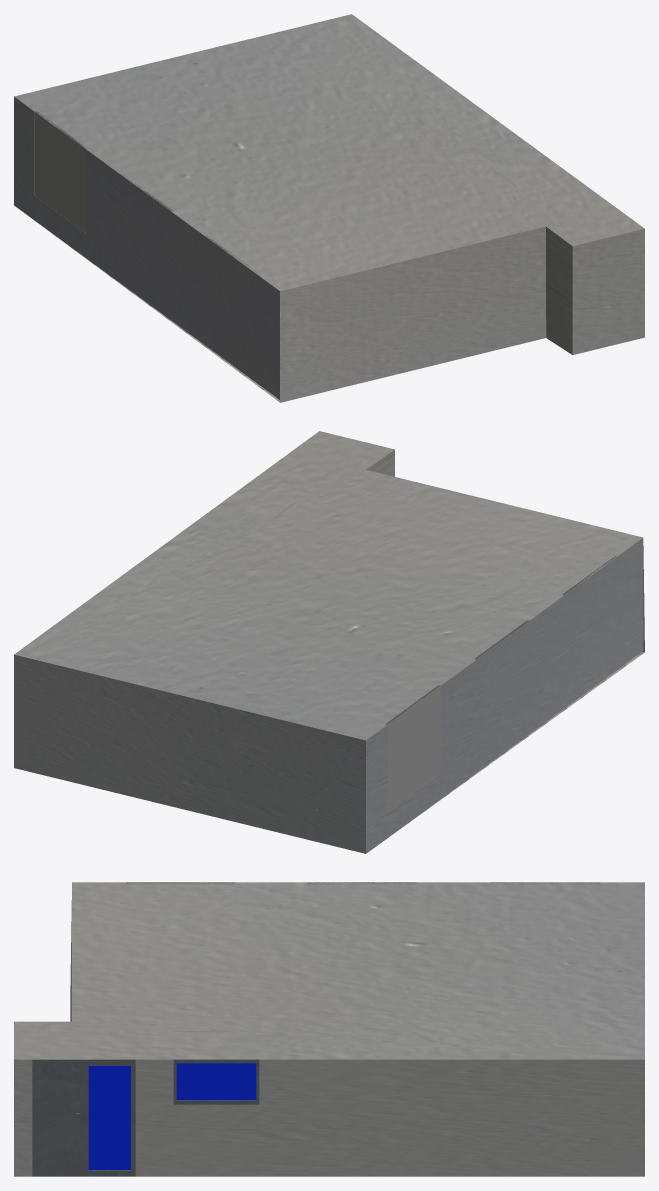
Rendered from Aula por el 67.fbx.
3 views of the same model, one above another, from view 1: azimuth 30°, elevation 25°; view 2: azimuth 150°, elevation 25°; view 3: azimuth 270°, elevation 25° (orthographic). The views are drawn at different scales.
Parts seen in each view (by area): view 1: Cube; view 2: Cube; view 3: Cube.
Part boxes in pixels (x1,y1,x2,y2): Cube: (14, 14, 644, 402); Cube: (14, 431, 644, 853); Cube: (14, 882, 644, 1176).
Bounding box in the file's own units: 805 × 250 × 1200.
